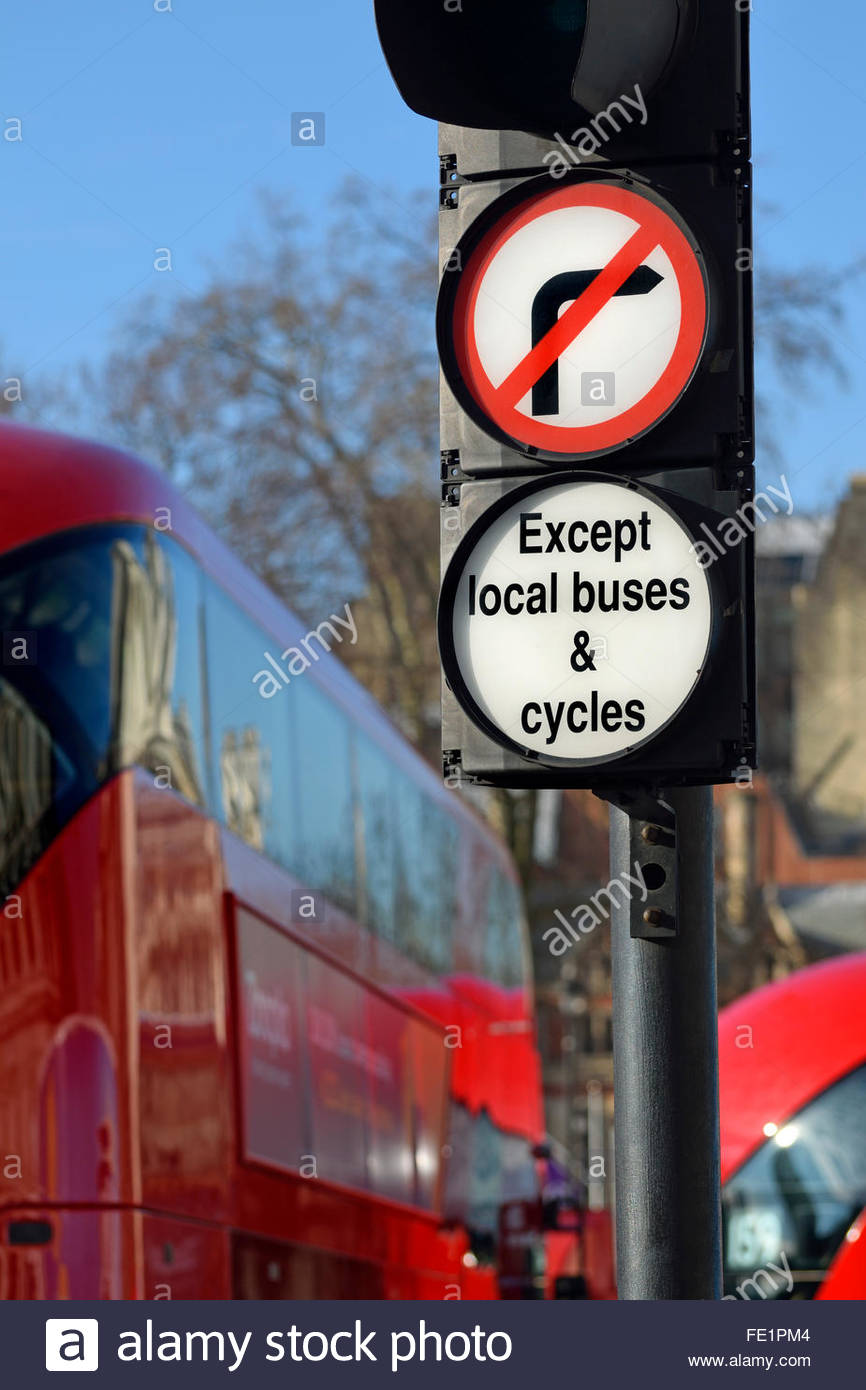No_right_turn: (449, 183, 707, 453)
